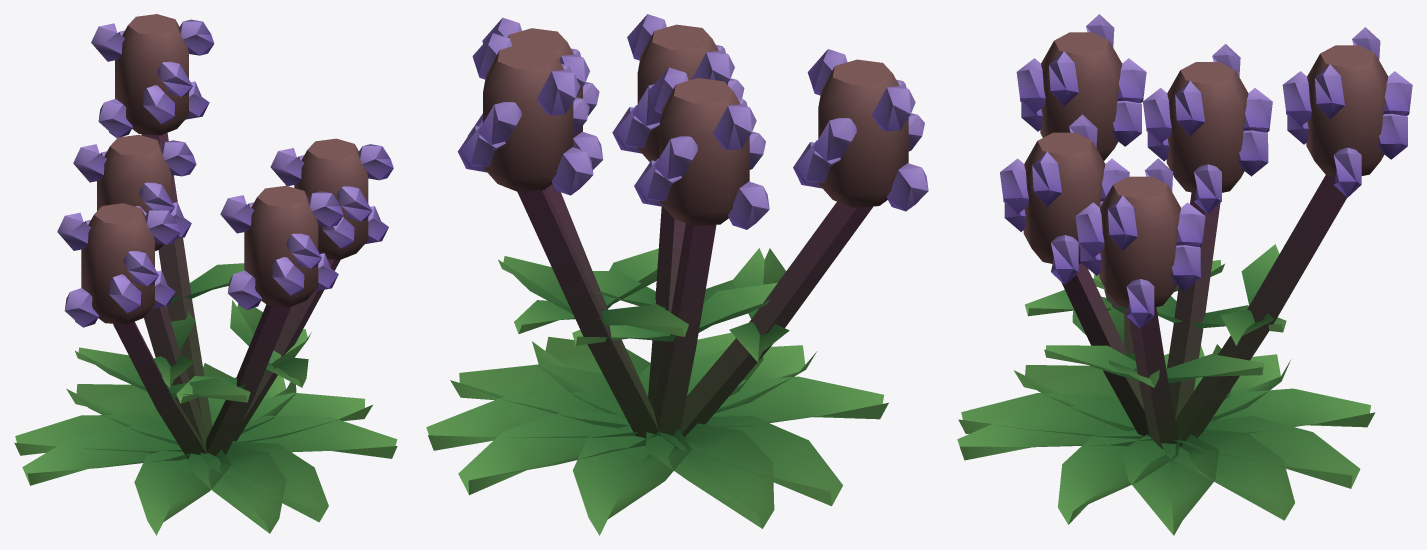
Rendered from healing_herb.glb.
The picture shows the model from 3 angles, left to right: view 1: azimuth 30°, elevation 25°; view 2: azimuth 150°, elevation 25°; view 3: azimuth 270°, elevation 25°; orthographic projection. The views are drawn at different scales.
Parts seen in each view (by area): view 1: healing_herb; view 2: healing_herb; view 3: healing_herb.
Part boxes in pixels (box(x1,y1,x2,y2)): healing_herb: box(14, 14, 397, 535); healing_herb: box(426, 14, 928, 535); healing_herb: box(957, 14, 1412, 535).
Size of the model in its own units: 0.4705 by 0.5026 by 0.4835.
